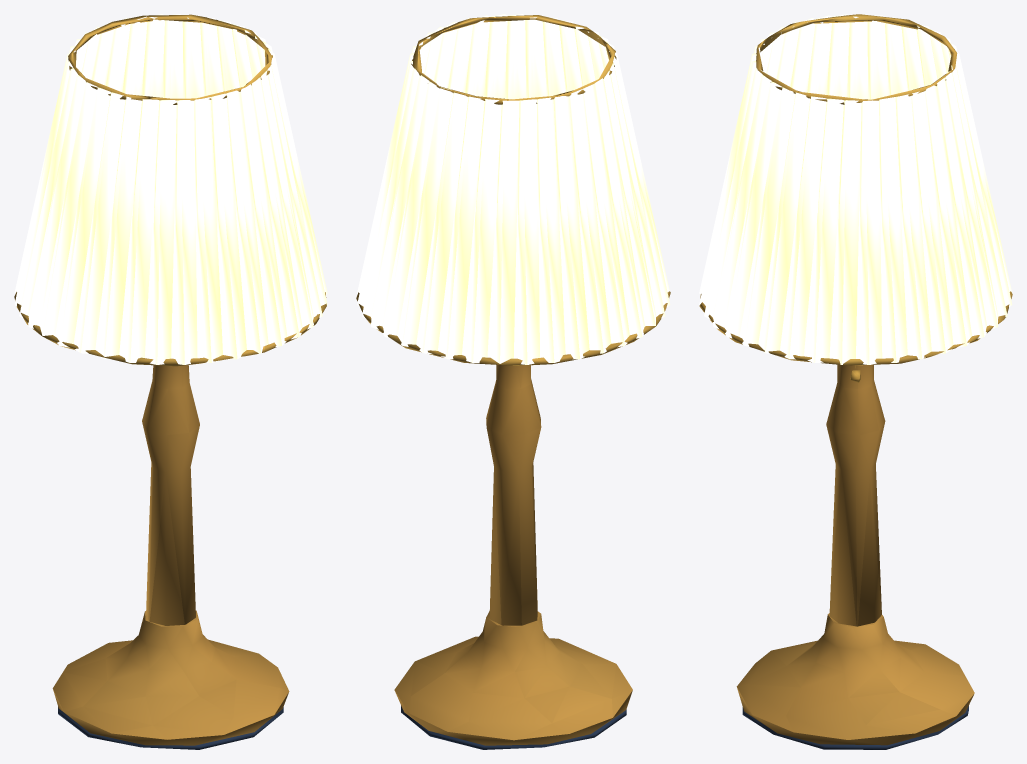
The model's file is frost_lamp_lod2.glb.
The picture shows the model from 3 angles, left to right: view 1: azimuth 30°, elevation 25°; view 2: azimuth 150°, elevation 25°; view 3: azimuth 270°, elevation 25°; orthographic projection.
Parts seen in each view (by area): view 1: frost_lamp.001; view 2: frost_lamp.001; view 3: frost_lamp.001.
Part boxes in pixels (x1,y1,x2,y2): frost_lamp.001: (14,14,327,749); frost_lamp.001: (356,14,670,749); frost_lamp.001: (699,14,1012,749).
Bounding box in the file's own units: 41.28 × 93.82 × 41.3.
